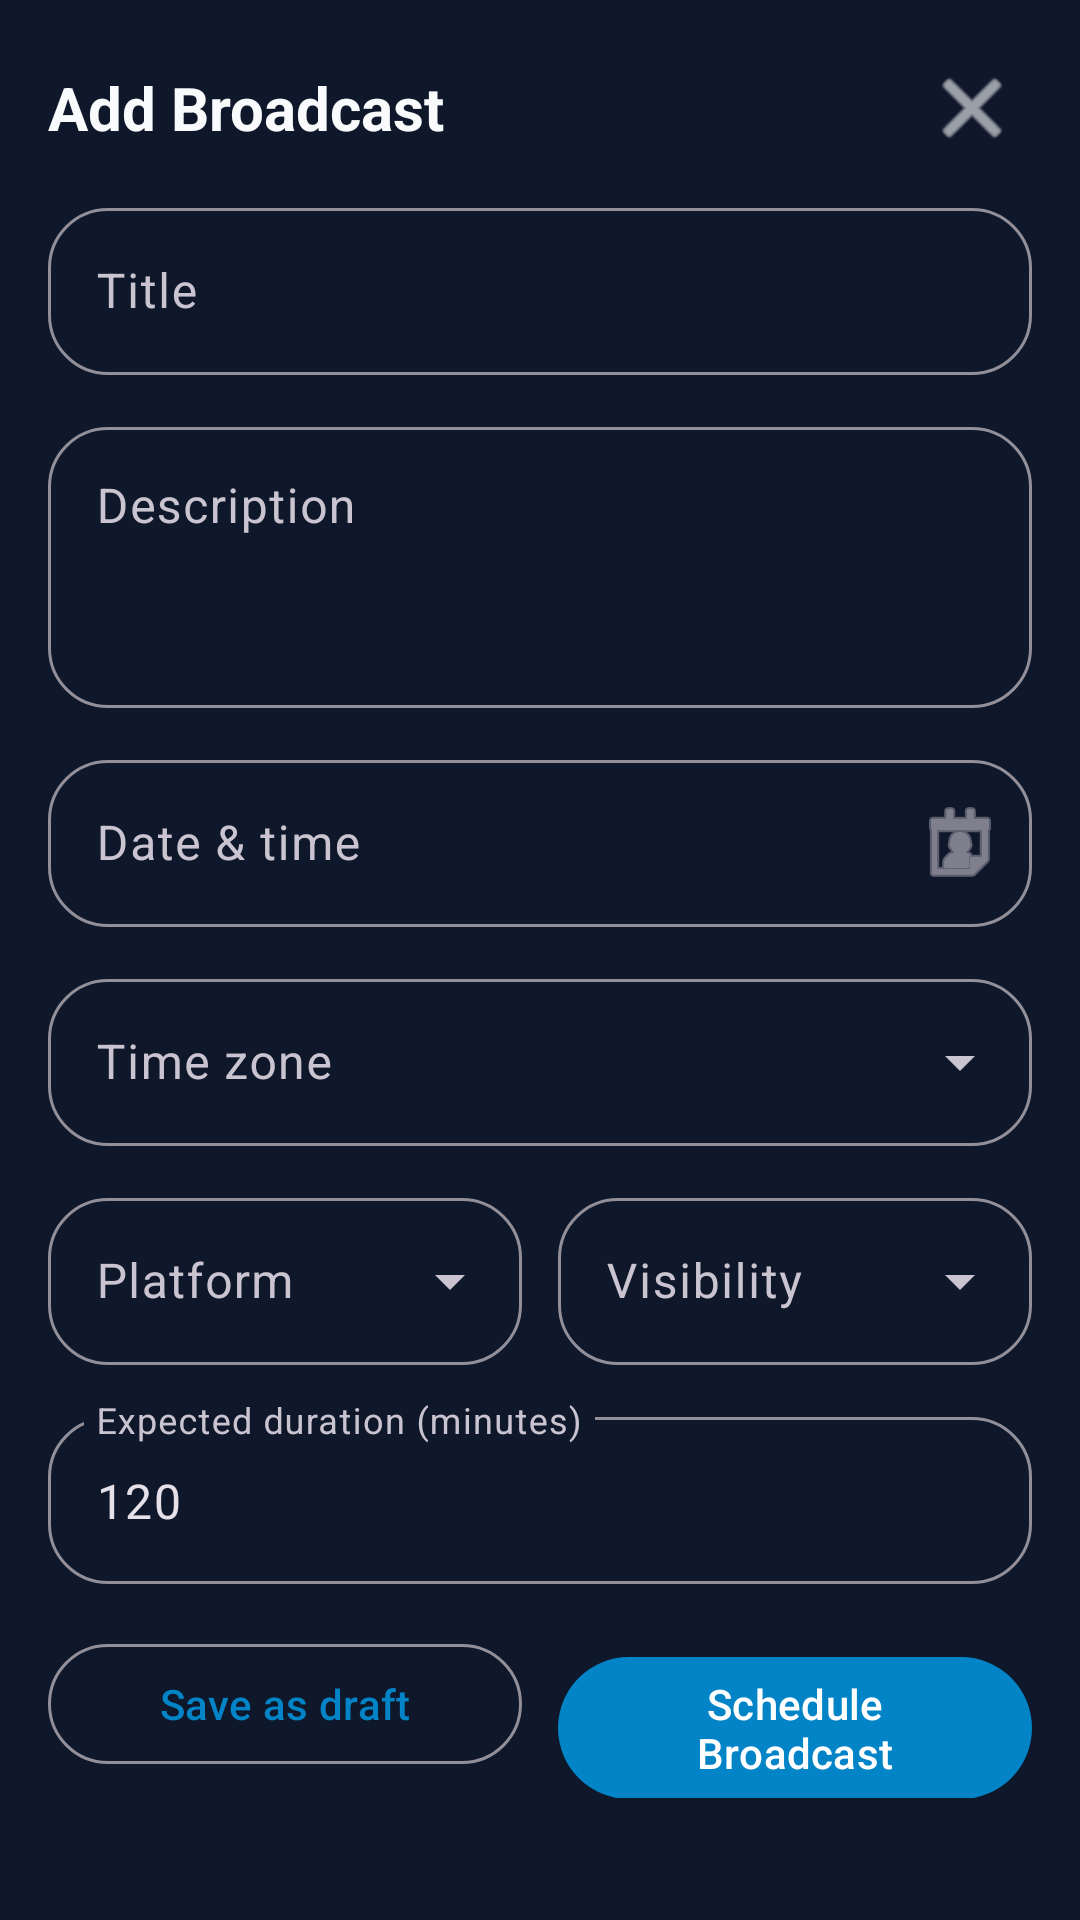

Screen size 1080w x 1920h. Icon name, then its box in pixels as (x1, y1, x2, y2):
Close: (942, 78, 1002, 138)
